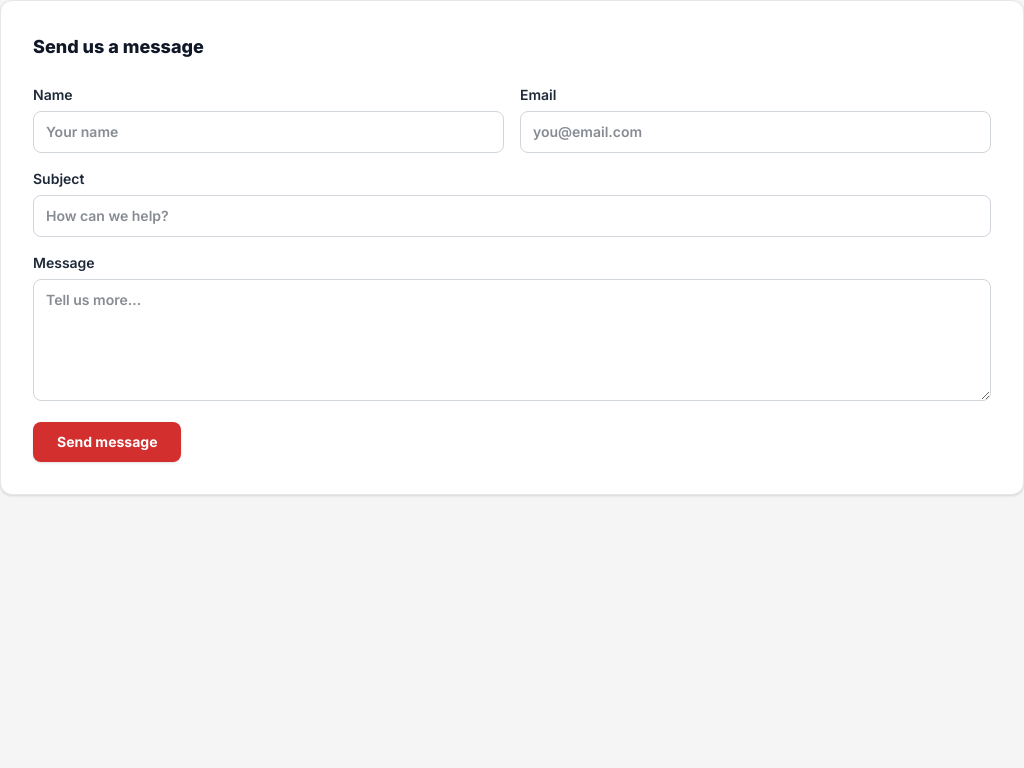
Scenario: ContactForm › submits valid data and shows a success message
Type "Test User" into the field with placeholder "Your name" at (268, 132), box [33, 111, 504, 153]
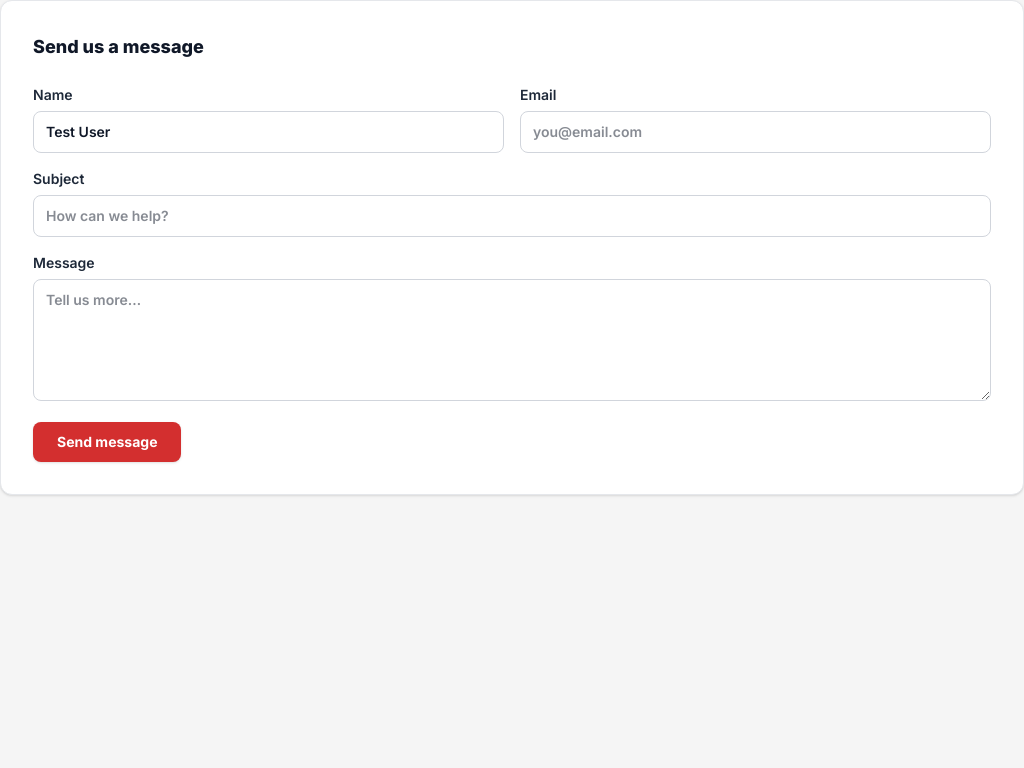
Type "test@example.com" into the field with placeholder "you@email.com" at (756, 132), box [520, 111, 991, 153]
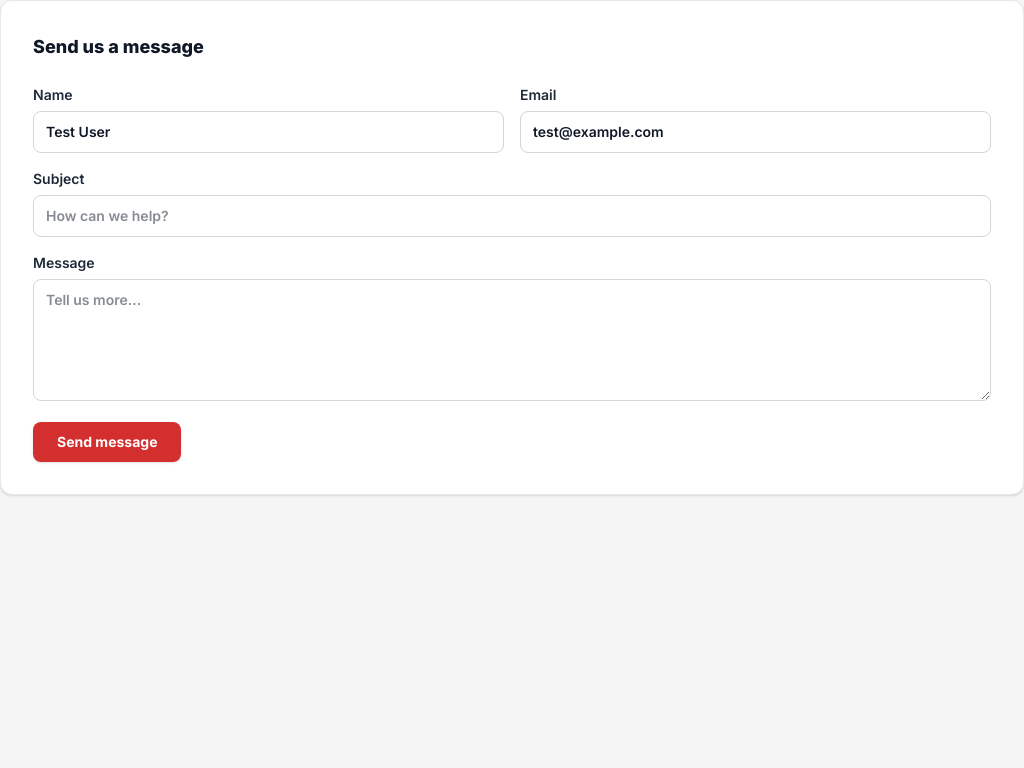
Type "Question" into the field with placeholder "How can we help?" at (512, 216), box [33, 195, 991, 237]
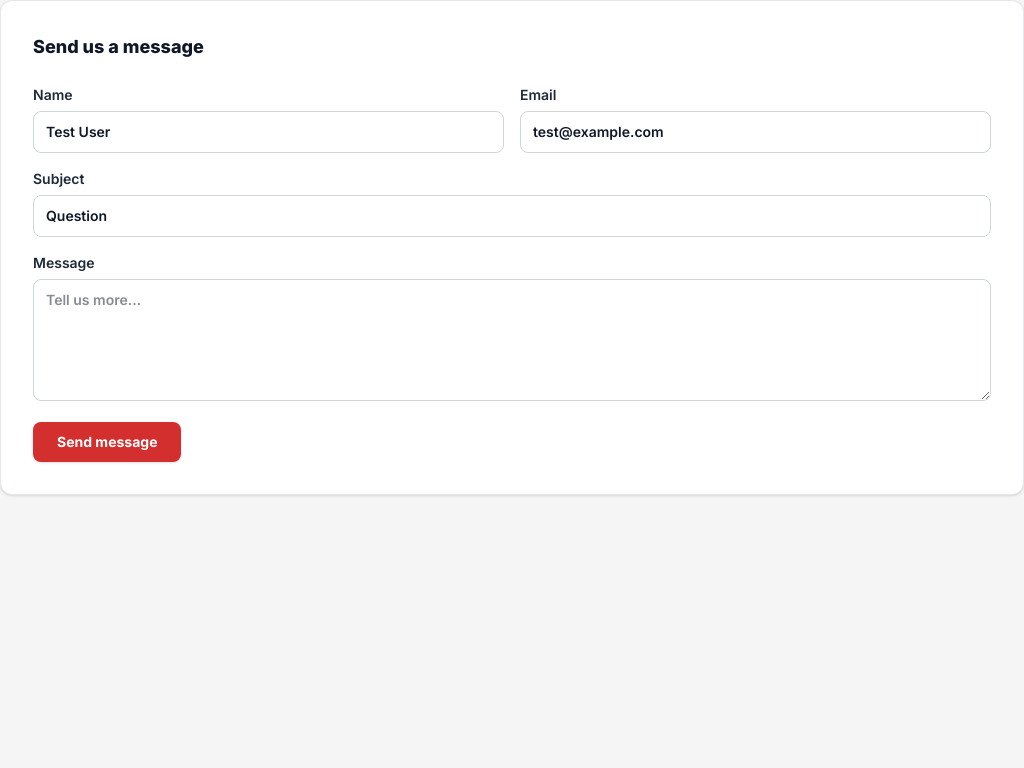
Type "Hello there." into the text box with placeholder "Tell us more…" at (512, 340), box [33, 279, 991, 401]
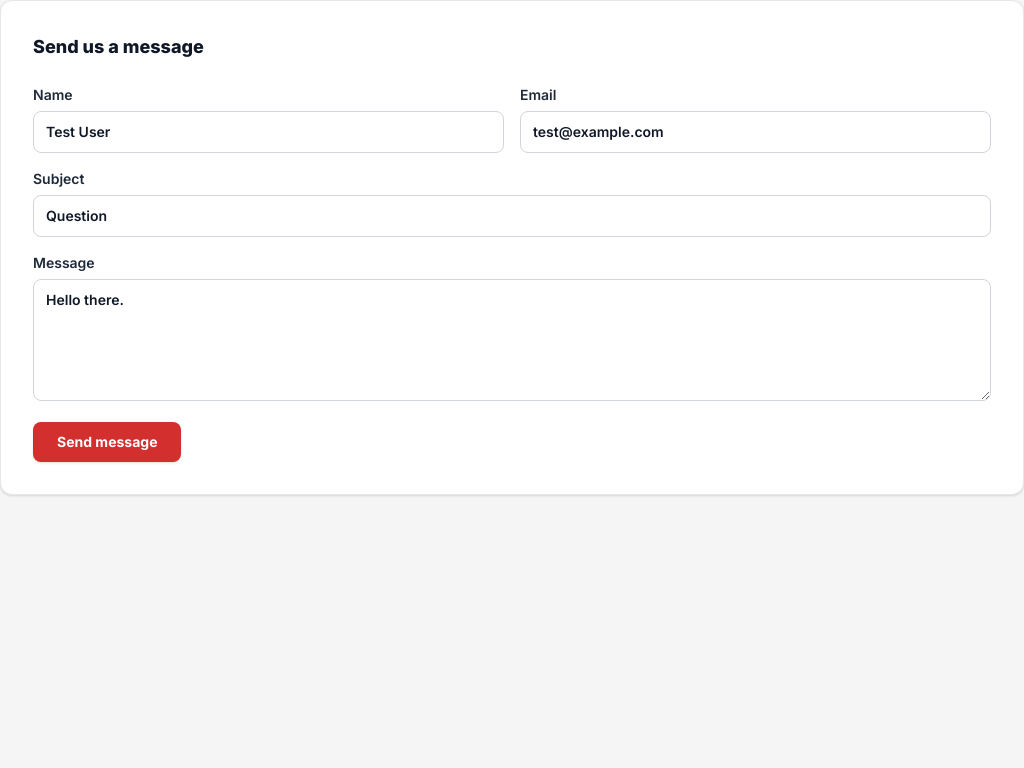
Click the button "Send message" at (107, 442), box [33, 422, 182, 462]
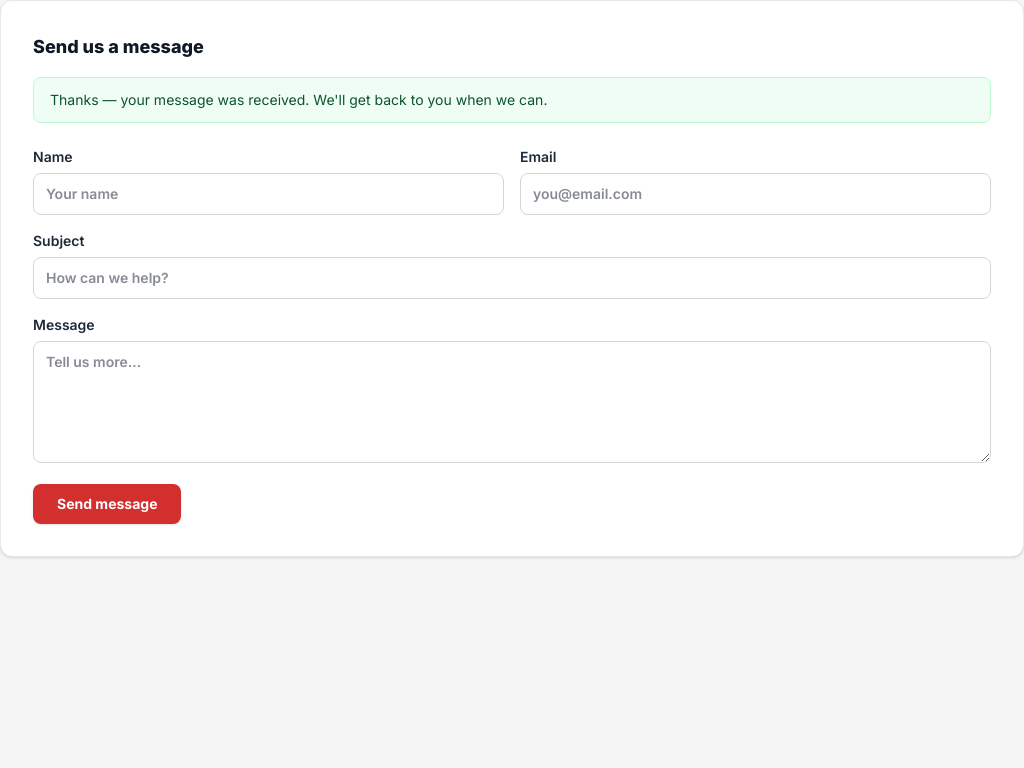
Check: the text "Thanks — your message was received" is shown, box [50, 91, 547, 108]
